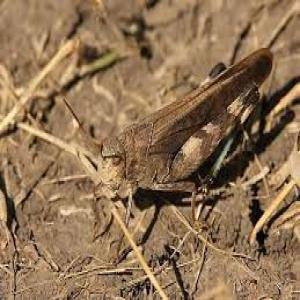locust: (91, 48, 277, 212)
